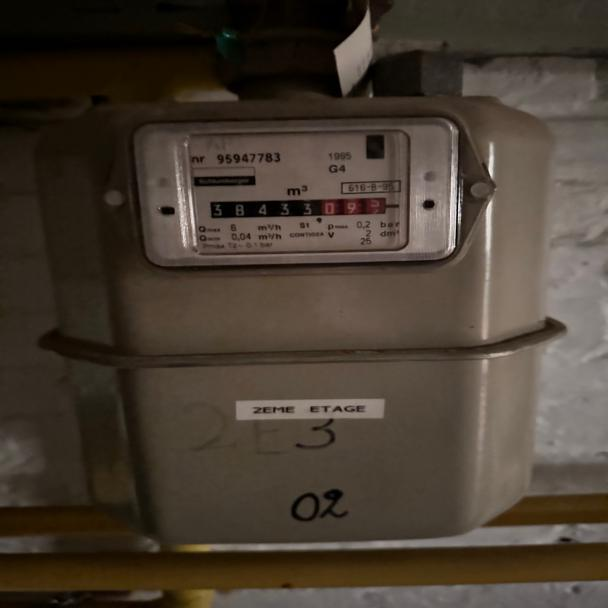0: (324, 201, 339, 215)
3: (208, 203, 228, 218), (298, 200, 316, 216), (276, 202, 292, 217)
4: (253, 202, 273, 217)
5: (365, 200, 388, 215)
8: (232, 202, 248, 217)
9: (342, 200, 362, 214)
cm: (324, 196, 390, 217)
counter: (203, 200, 325, 218)
